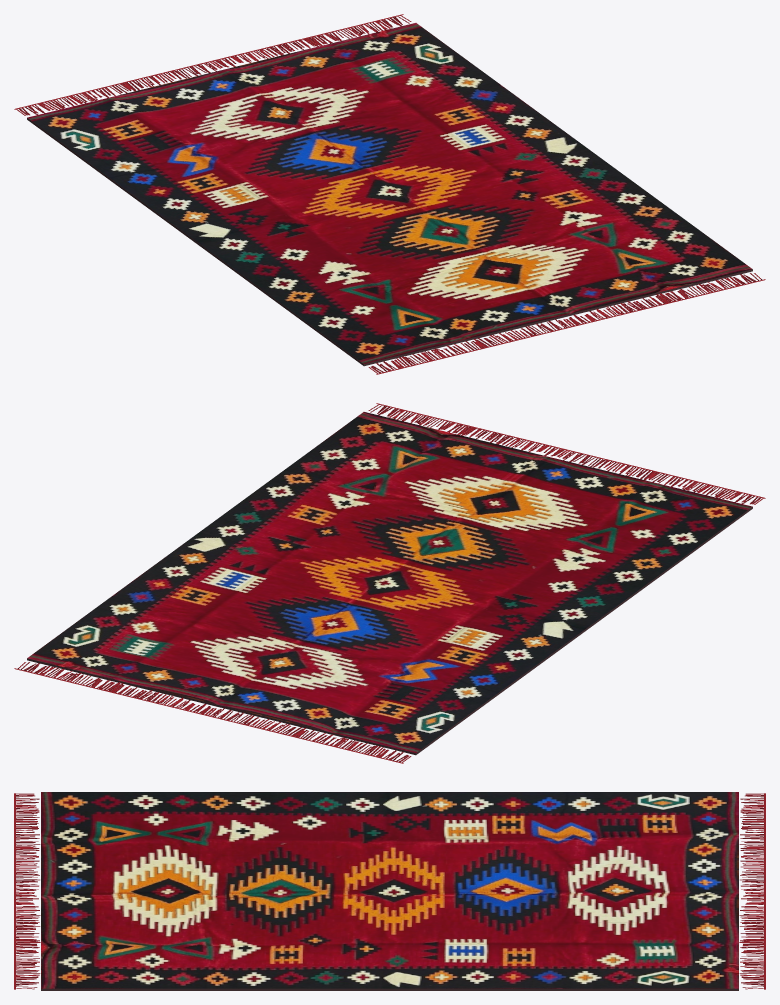
3 views of the same model, one above another, from view 1: azimuth 30°, elevation 25°; view 2: azimuth 150°, elevation 25°; view 3: azimuth 270°, elevation 25° (orthographic). The views are drawn at different scales.
Parts seen in each view (by area): view 1: rug, fringeB, fringeA, side; view 2: rug, fringeA, fringeB, side; view 3: rug, fringeA, fringeB, side.
Boxes of the visible parts, left/top/right/bottom form: rug: left=27, top=23, right=752, bottom=363; fringeB: left=368, top=273, right=765, bottom=374; fringeA: left=14, top=14, right=411, bottom=115; side: left=27, top=118, right=752, bottom=366; rug: left=27, top=412, right=752, bottom=752; fringeA: left=14, top=662, right=411, bottom=763; fringeB: left=368, top=403, right=765, bottom=504; side: left=27, top=507, right=752, bottom=755; rug: left=41, top=792, right=738, bottom=988; fringeA: left=739, top=793, right=765, bottom=989; fringeB: left=14, top=793, right=40, bottom=989; side: left=41, top=988, right=738, bottom=990.
Size of what is drawn, in the model's own units: 1.2 by 0.00614 by 1.94.
Materials: 2 (2 with a texture image).
